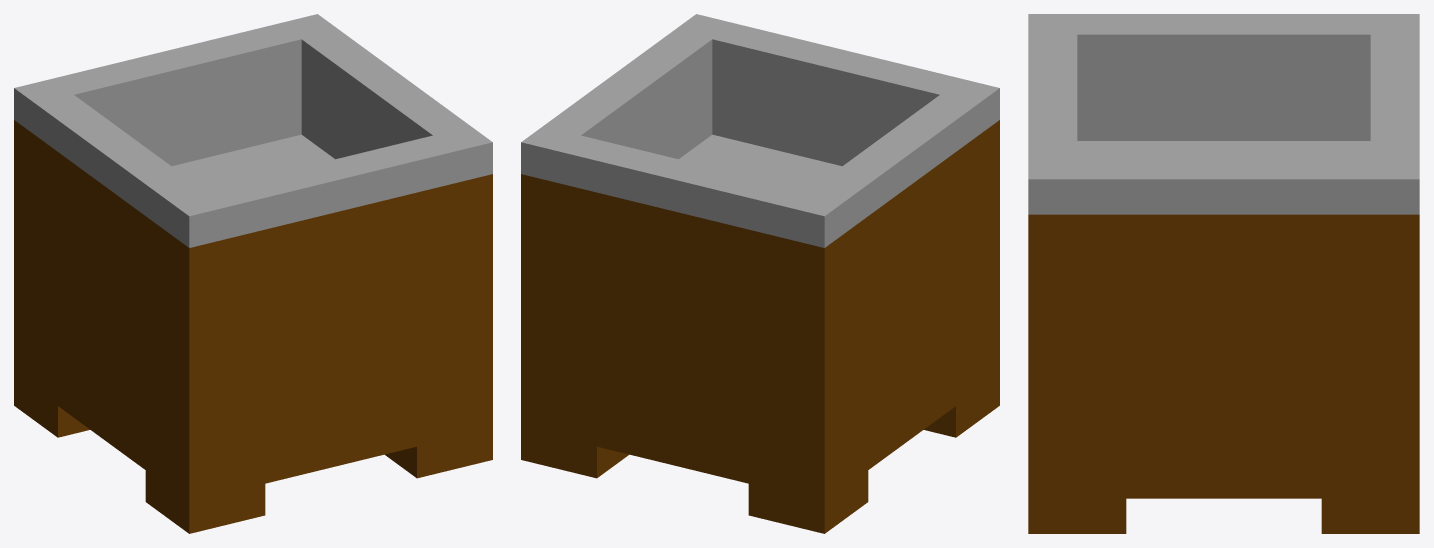
Rendered from sink.glb.
3 views of the same model, side by side, from view 1: azimuth 30°, elevation 25°; view 2: azimuth 150°, elevation 25°; view 3: azimuth 270°, elevation 25° (orthographic). The views are drawn at different scales.
Parts seen in each view (by area): view 1: sink; view 2: sink; view 3: sink.
Part boxes in pixels (x1,y1,x2,y2): sink: (14, 14, 492, 533); sink: (521, 14, 999, 533); sink: (1028, 14, 1419, 533).
Bounding box in the file's own units: 1 × 1 × 1.
